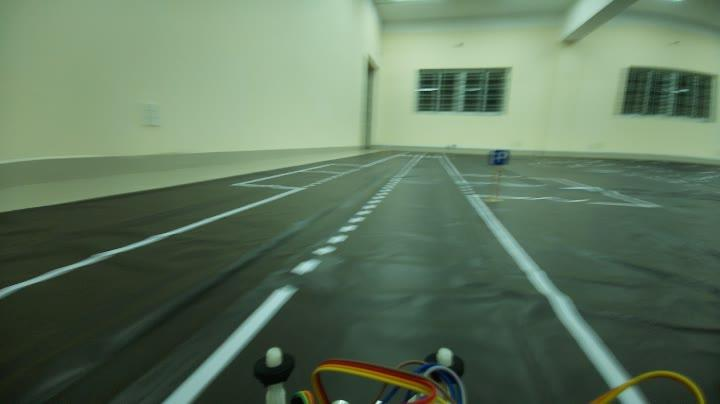parking: (486, 146, 514, 167)
